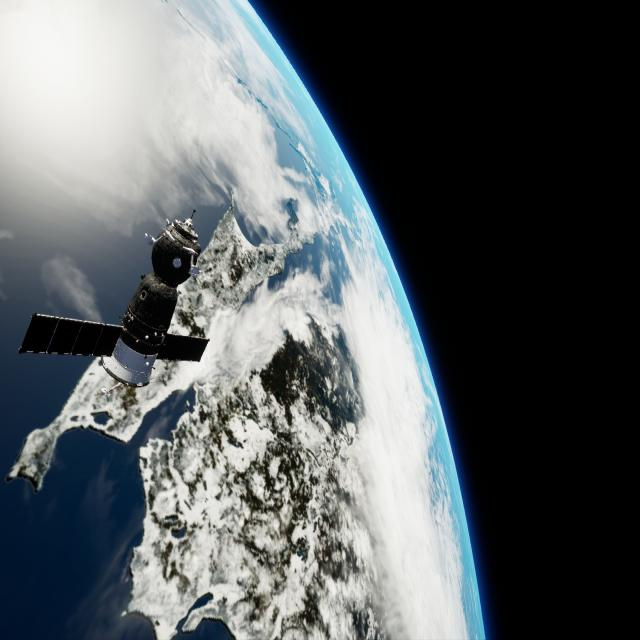Satellites revolving around earth: (4, 1, 487, 638)
